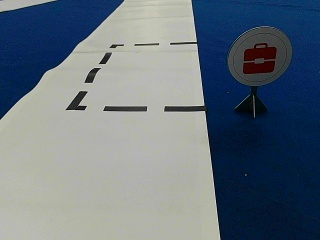company: (228, 26, 292, 85)
